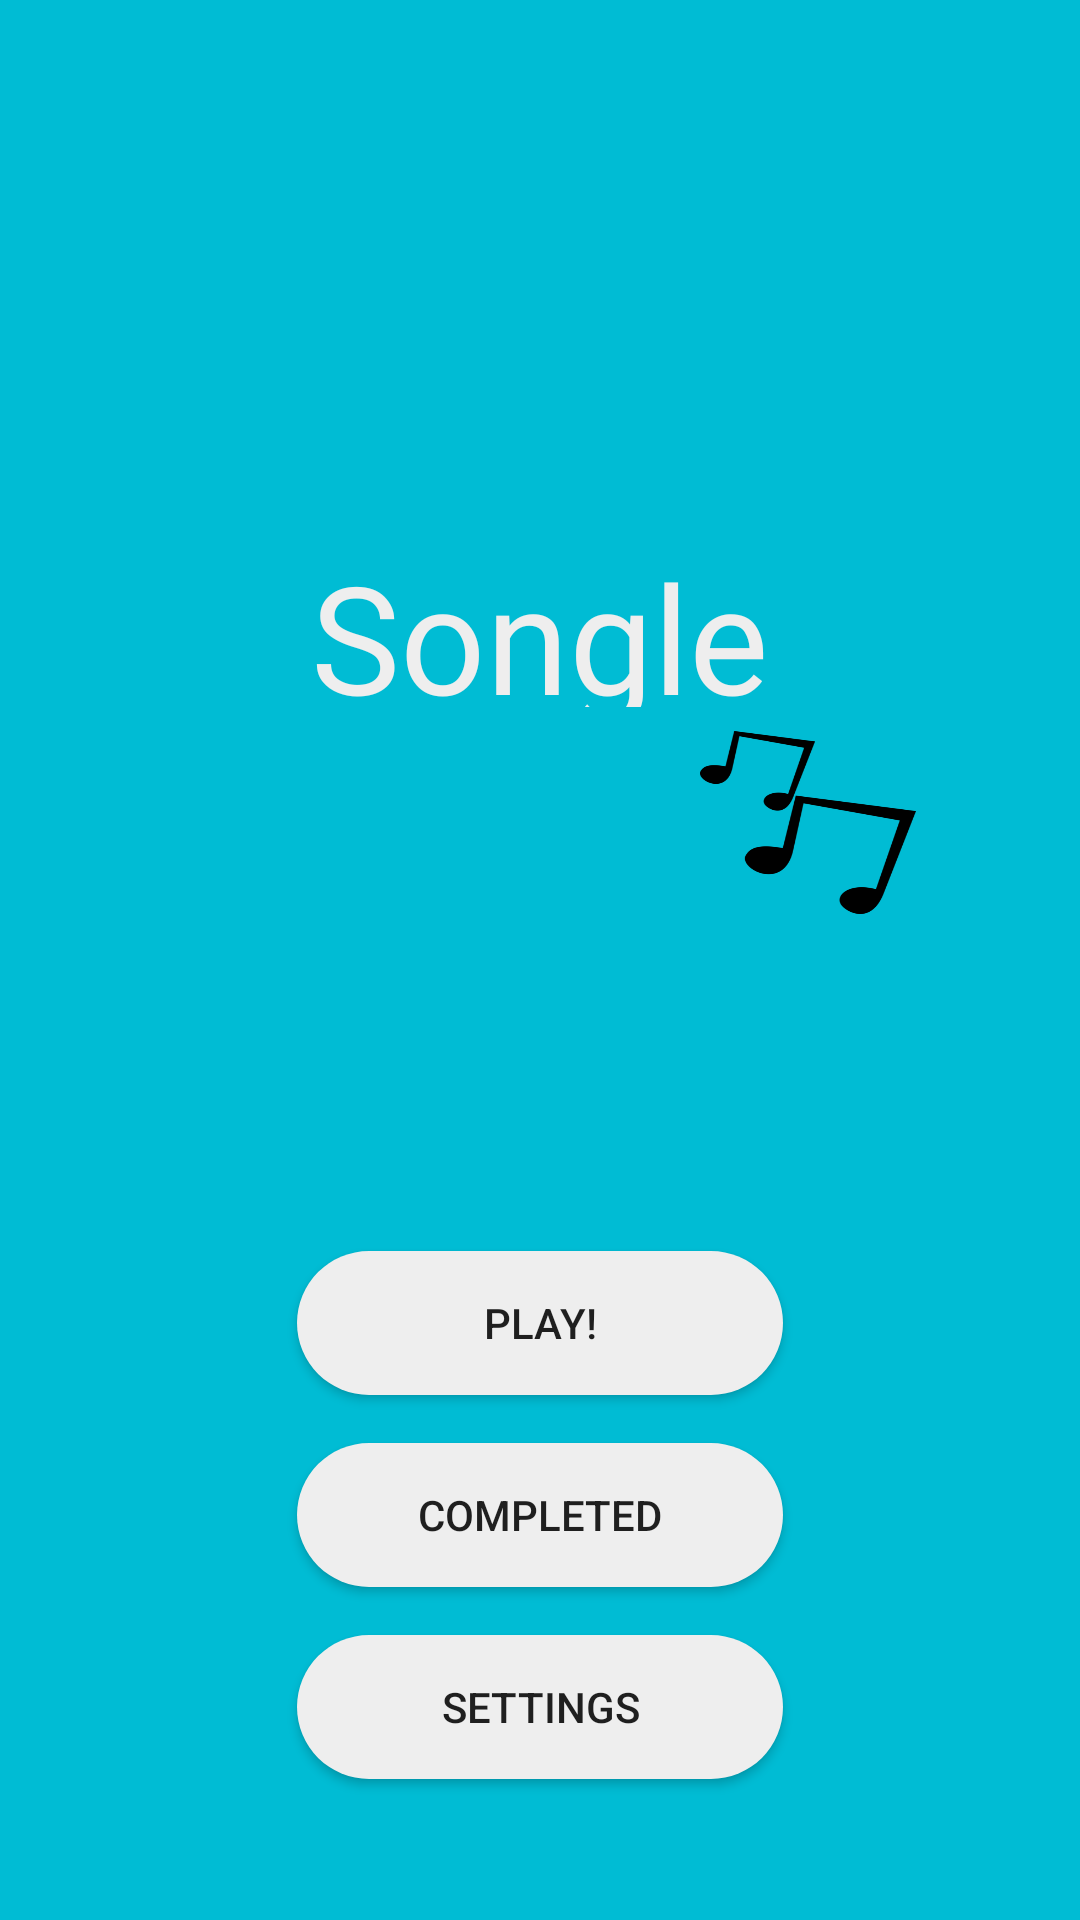

Locate icon controls on the screen. Image size 1080w x 1920h, boxes as (x1, y1, x2, y2).
double notes: (700, 731, 916, 914)
